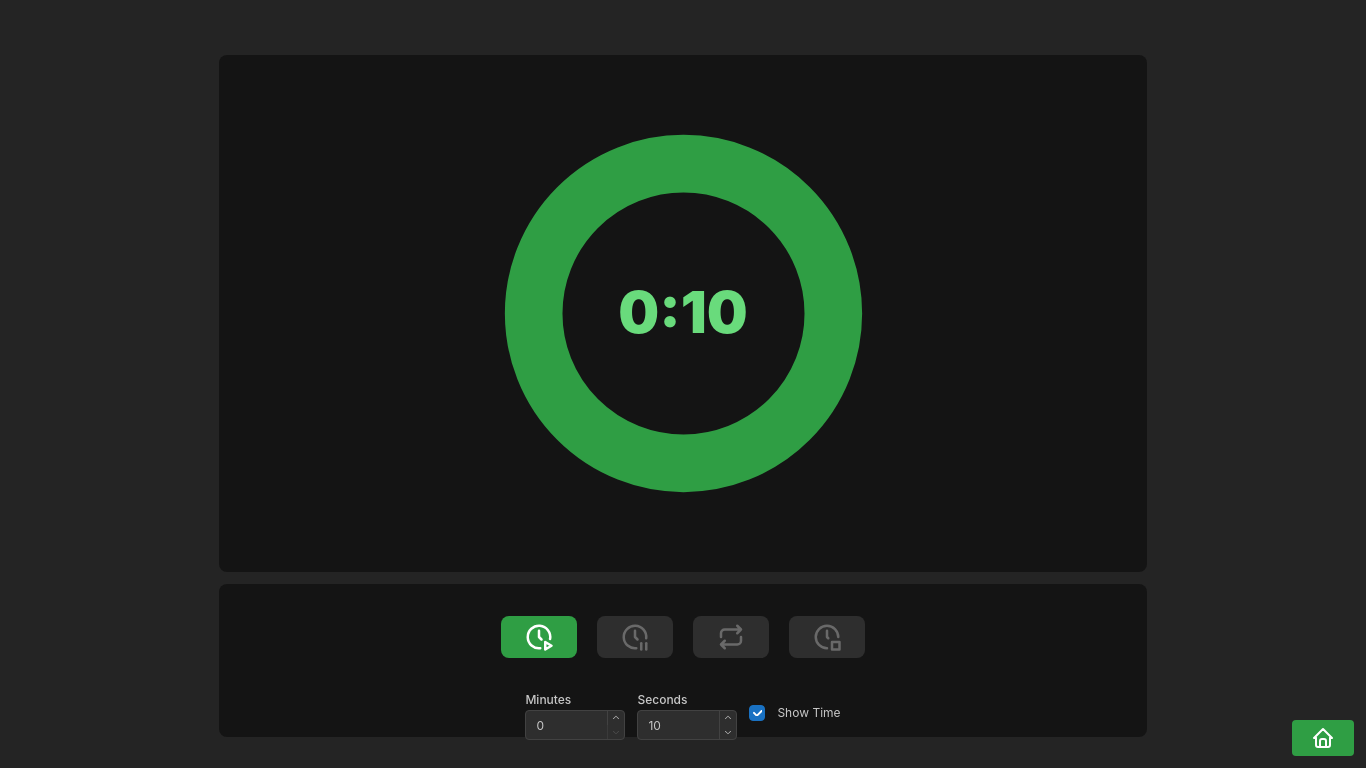
Test case: hourglass timer › should hide the time
Check: the text "0:10" is shown, box [618,277,748,347]
Click the checkbox with test id "timeOptions-showTime": [757, 713] box [749,705,765,721]
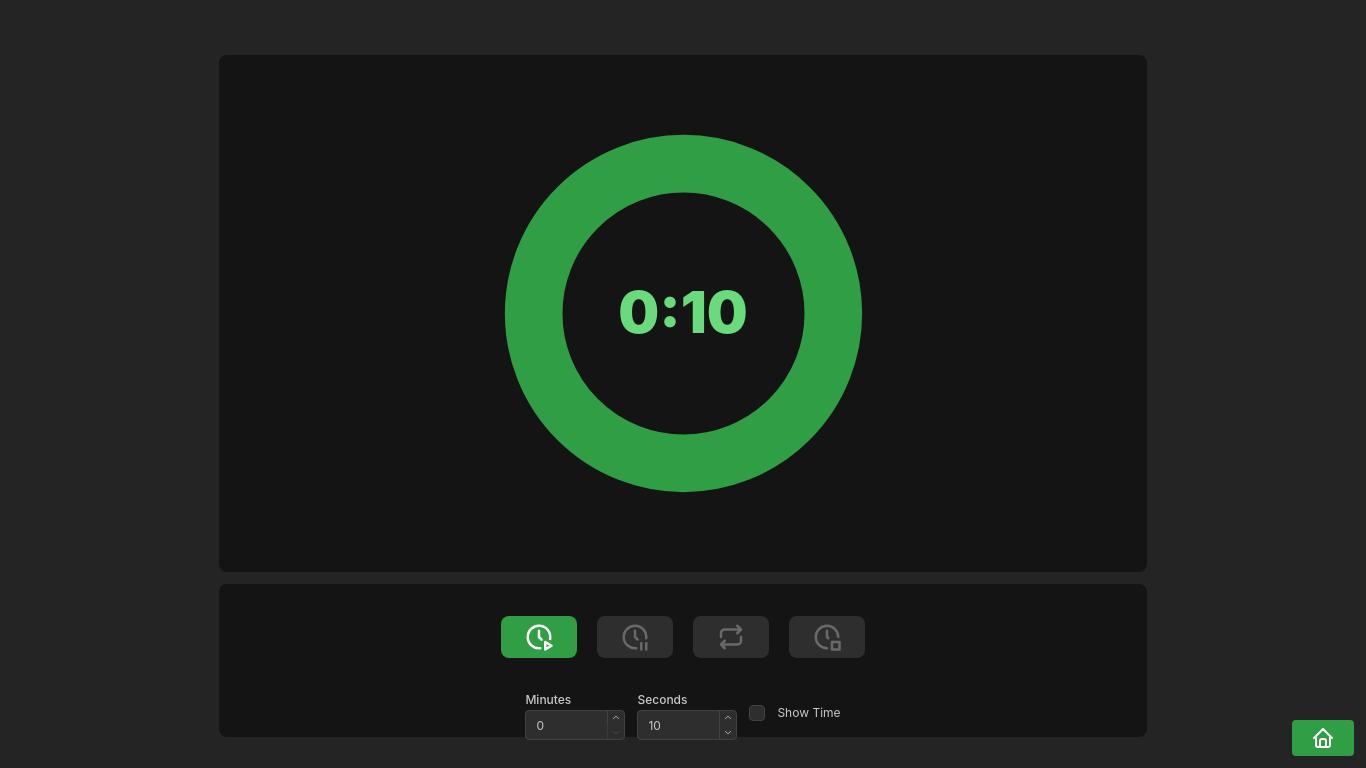
Click the button titled "Start": [539, 637] box [501,616,577,658]
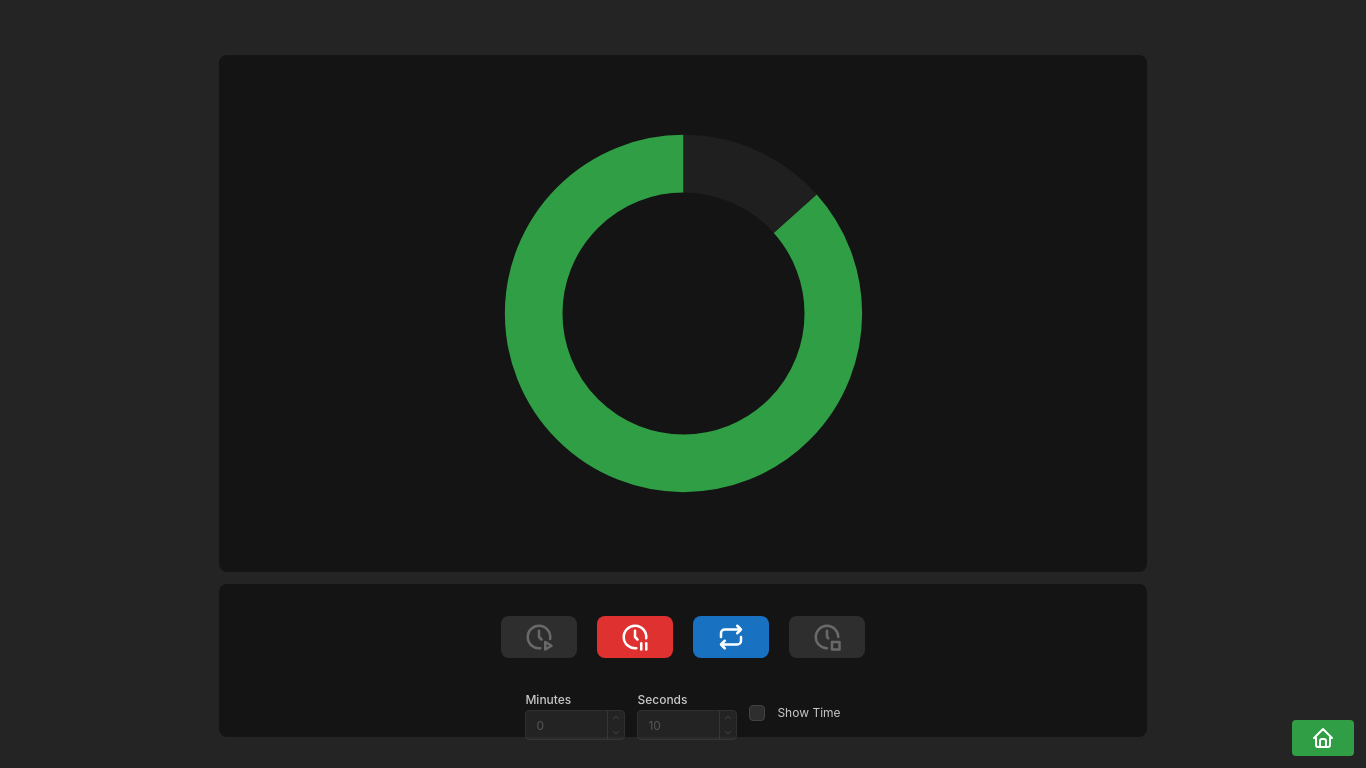
Check: the text "0:10" is gone
